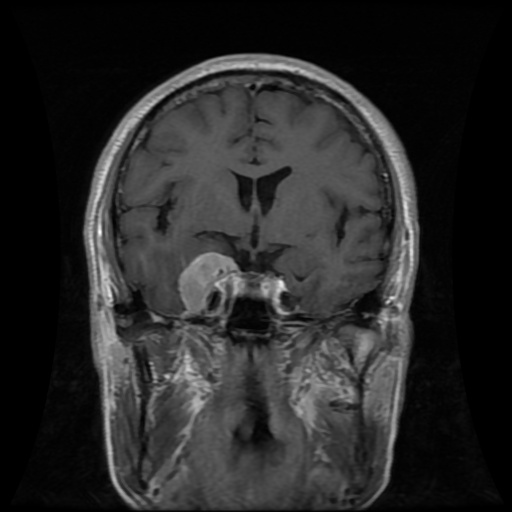meningioma: (176, 253, 238, 311)
